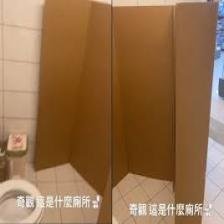cardboard: (110, 3, 222, 222), (42, 3, 112, 224)
